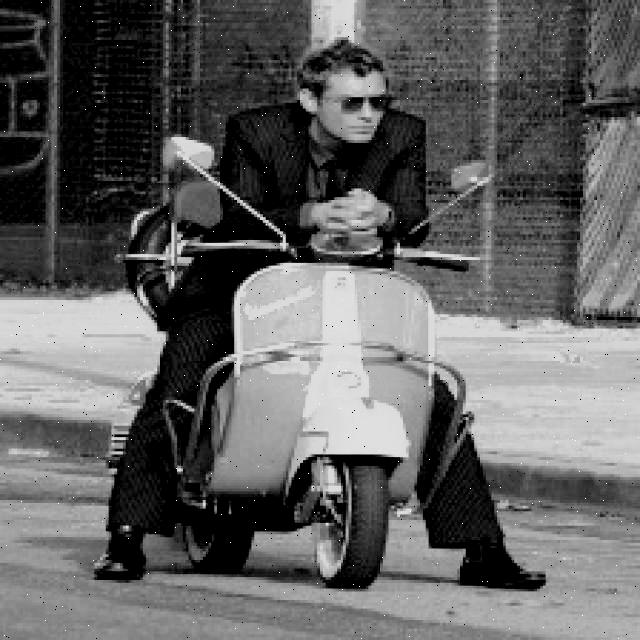Bike: (178, 239, 457, 589)
